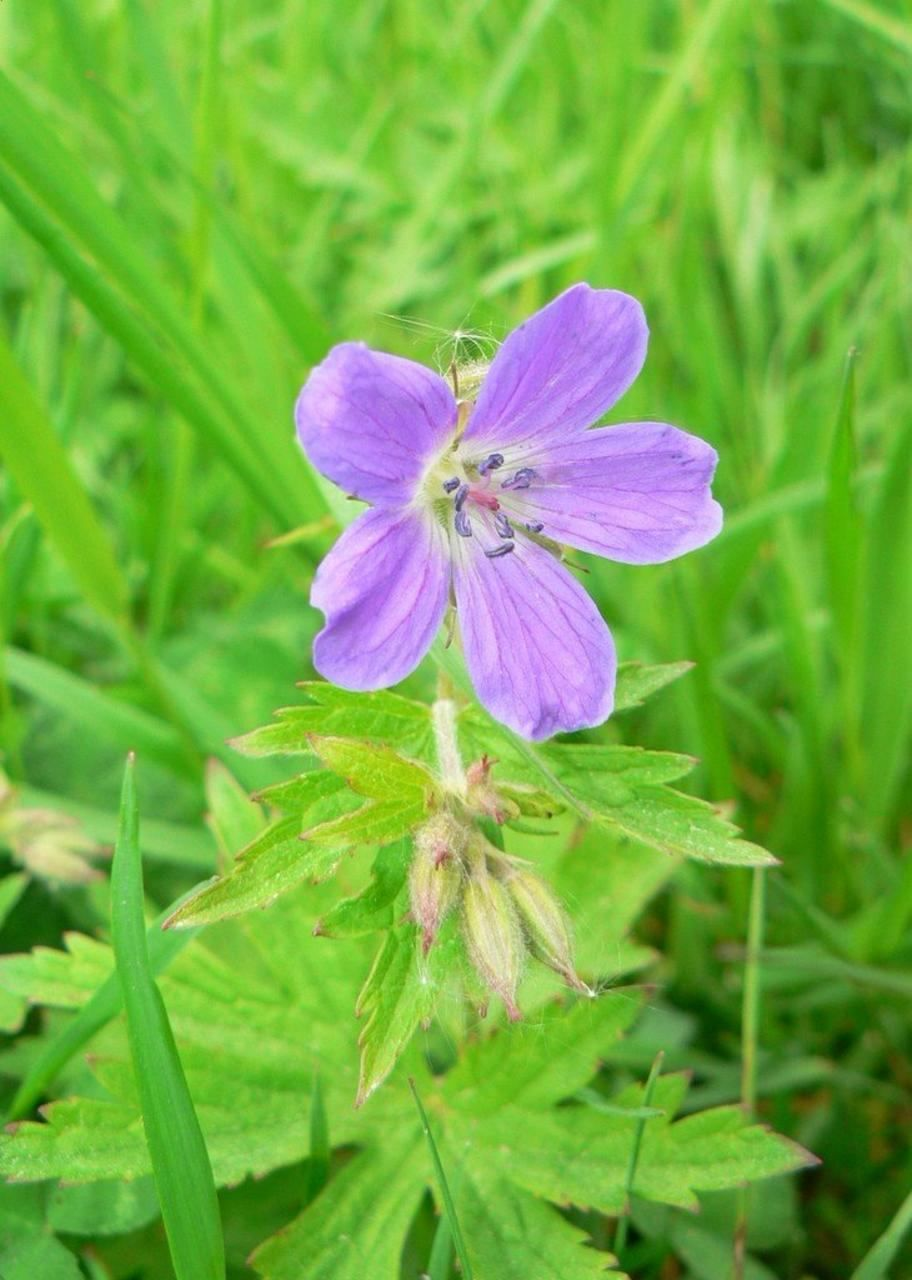violet: (269, 310, 711, 759)
